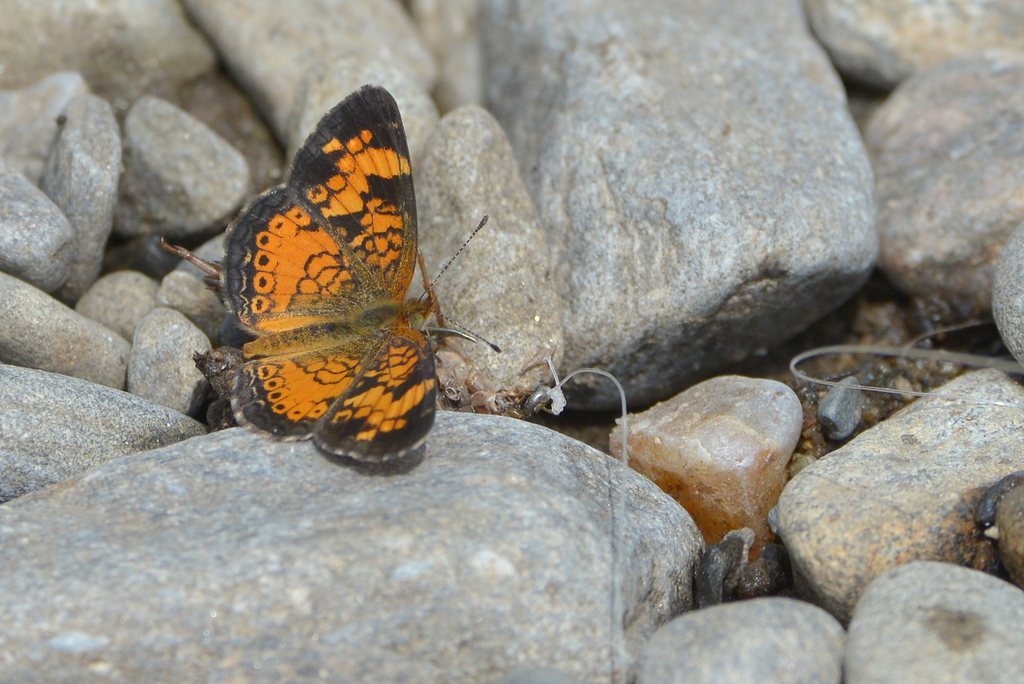Butterfly: (173, 85, 517, 482)
